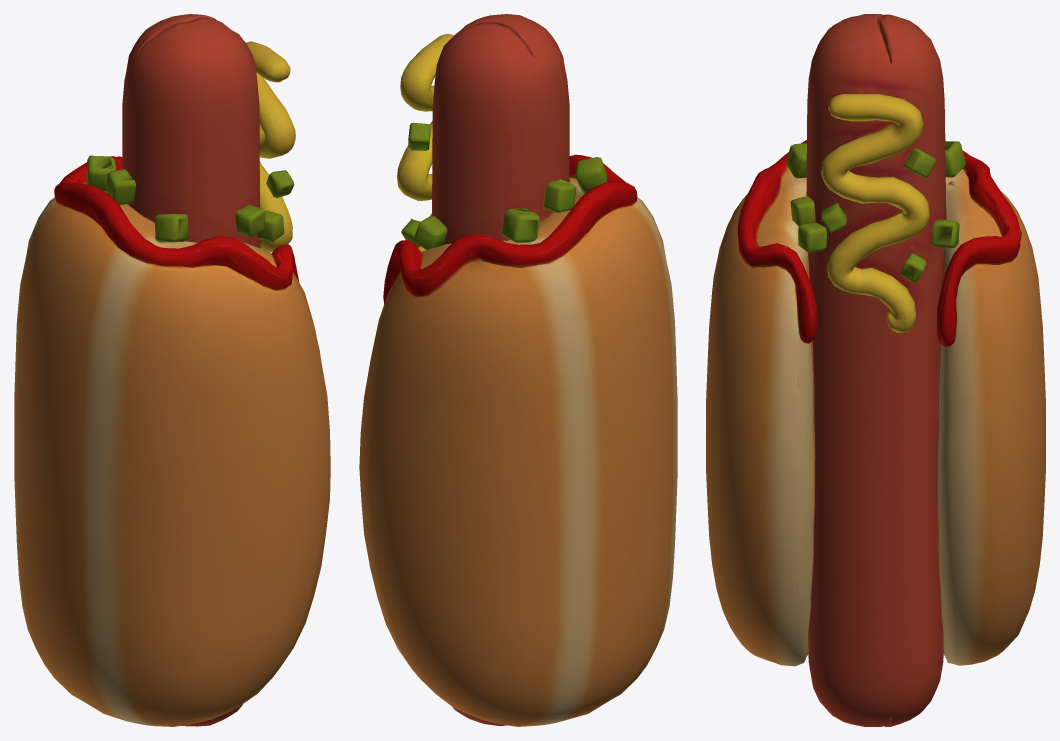
File: hot_dog.glb
The picture shows the model from 3 angles, left to right: view 1: azimuth 30°, elevation 25°; view 2: azimuth 150°, elevation 25°; view 3: azimuth 270°, elevation 25°; orthographic projection.
Parts seen in each view (by area): view 1: tripo_node_195134e6-361e-4144-bb87-2c64d2de602d; view 2: tripo_node_195134e6-361e-4144-bb87-2c64d2de602d; view 3: tripo_node_195134e6-361e-4144-bb87-2c64d2de602d.
Boxes of the visible parts, x1,y1,x2,y2 form: tripo_node_195134e6-361e-4144-bb87-2c64d2de602d: (14,14,330,726); tripo_node_195134e6-361e-4144-bb87-2c64d2de602d: (359,14,677,726); tripo_node_195134e6-361e-4144-bb87-2c64d2de602d: (706,14,1045,726).
Size of the model in its own units: 0.3574 by 0.998 by 0.4395.
1 material, 1 textured.
